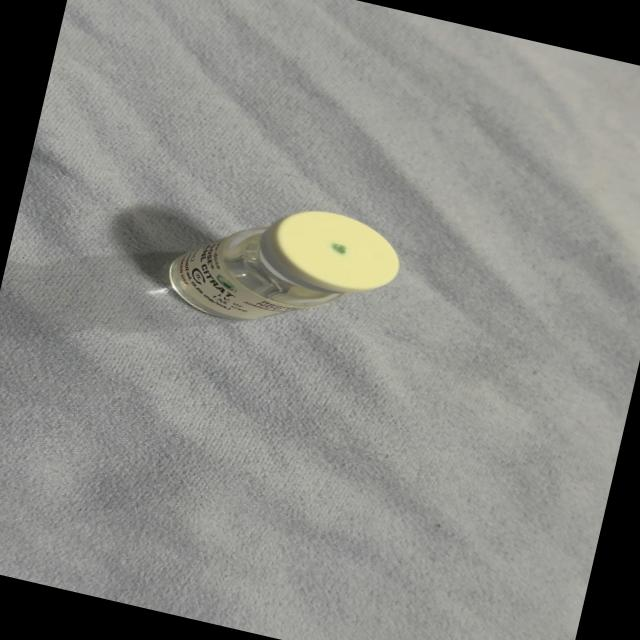fentanl_citrat: (162, 181, 402, 351)
